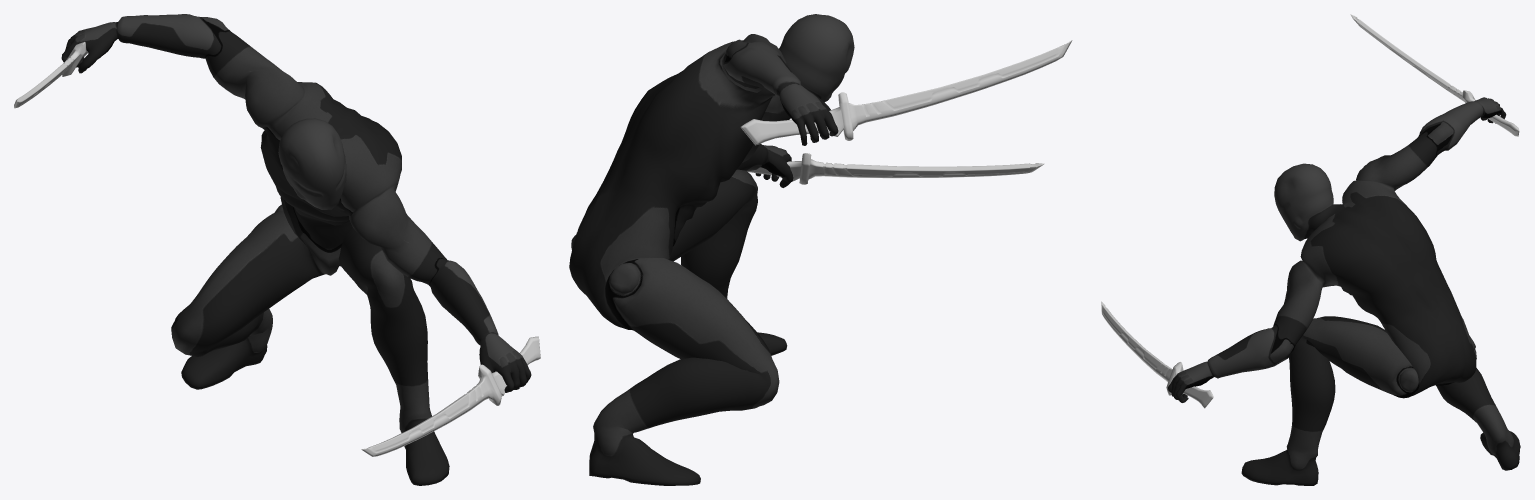
The picture shows the model from 3 angles, left to right: view 1: azimuth 30°, elevation 25°; view 2: azimuth 150°, elevation 25°; view 3: azimuth 270°, elevation 25°; orthographic projection. The views are drawn at different scales.
Parts seen in each view (by area): view 1: Cyborg_Ninja_Killer, Sword_l, Sword_l001; view 2: Cyborg_Ninja_Killer, Sword_l001, Sword_l; view 3: Cyborg_Ninja_Killer, Sword_l, Sword_l001.
Part boxes in pixels (<box>): Cyborg_Ninja_Killer: <box>61,14,531,485</box>; Sword_l: <box>361,336,540,456</box>; Sword_l001: <box>14,42,88,108</box>; Cyborg_Ninja_Killer: <box>569,14,854,485</box>; Sword_l001: <box>740,40,1072,145</box>; Sword_l: <box>747,153,1044,184</box>; Cyborg_Ninja_Killer: <box>1168,97,1520,485</box>; Sword_l: <box>1101,301,1213,408</box>; Sword_l001: <box>1350,14,1519,136</box>.
Size of the model in its own units: 139 by 127 by 148.
